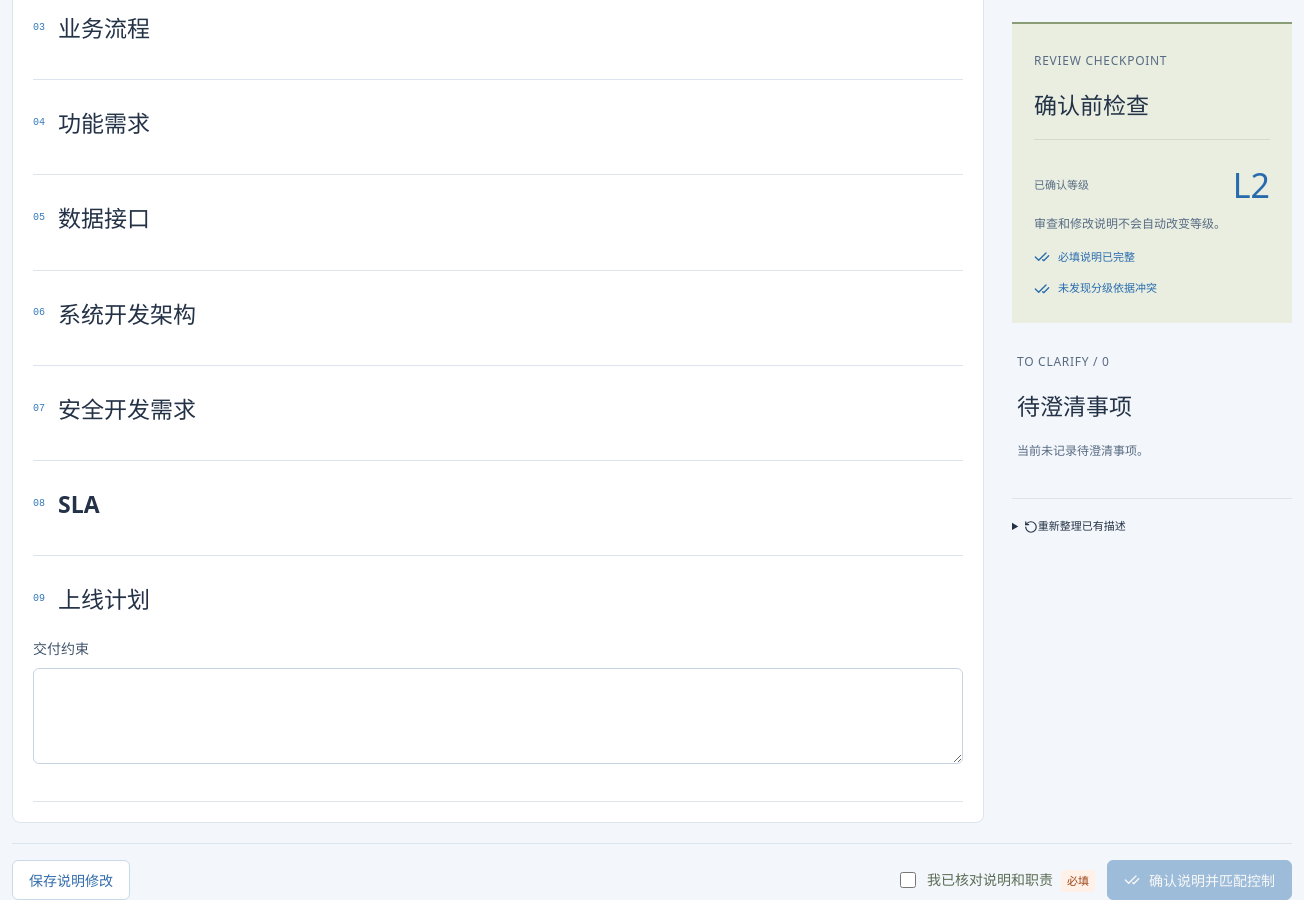
Test: bilingual interactions › requires explicit review before context confirmation
(page scrolled)
Expected: the button "确认说明并匹配控制" is disabled, [1107,860,1292,899]
Click the checkbox labelled "我已核对说明和职责": (908, 880) [900,872,916,888]
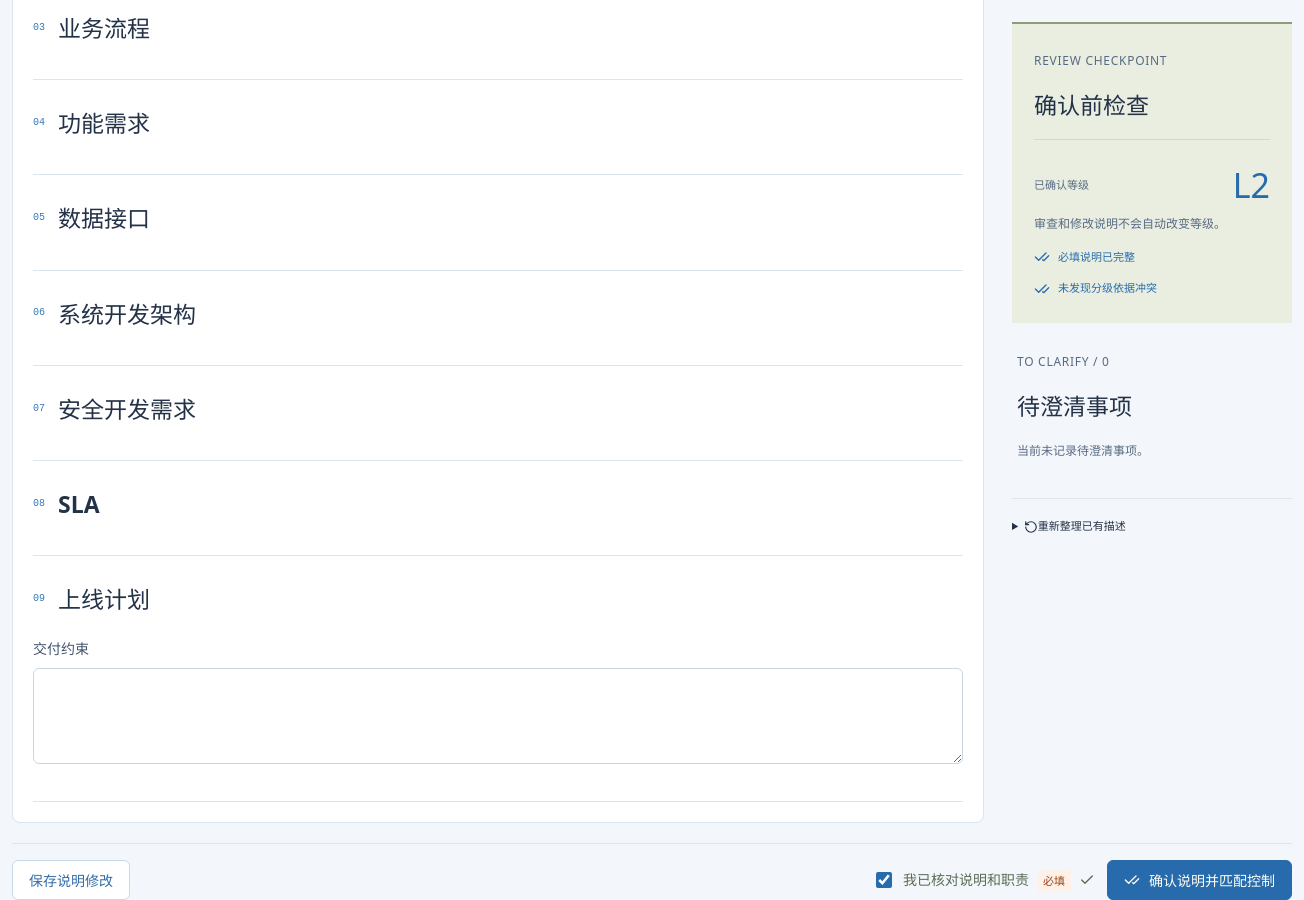
Now the button "确认说明并匹配控制" is enabled, box [1107,860,1292,899]
